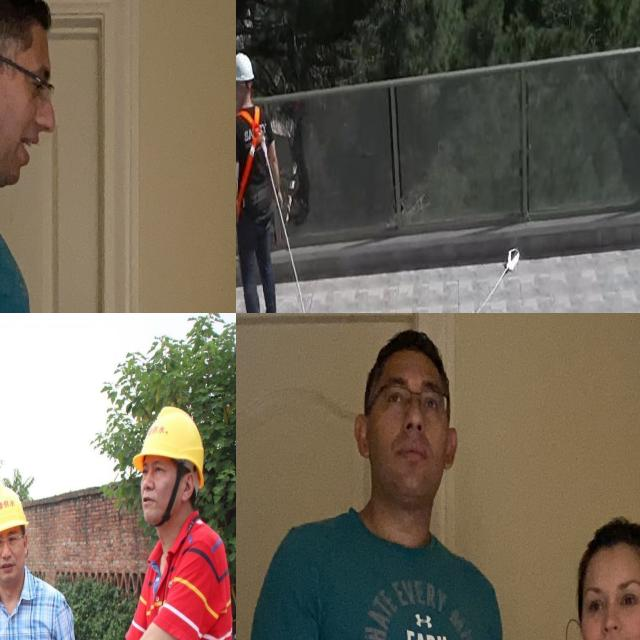Harness: (237, 106, 264, 214), (475, 249, 519, 313)
No_Ear-Protection: (136, 405, 198, 523), (0, 481, 32, 590), (443, 426, 460, 473), (354, 413, 370, 459)
No_Glasses: (578, 569, 640, 630), (138, 458, 169, 484)
